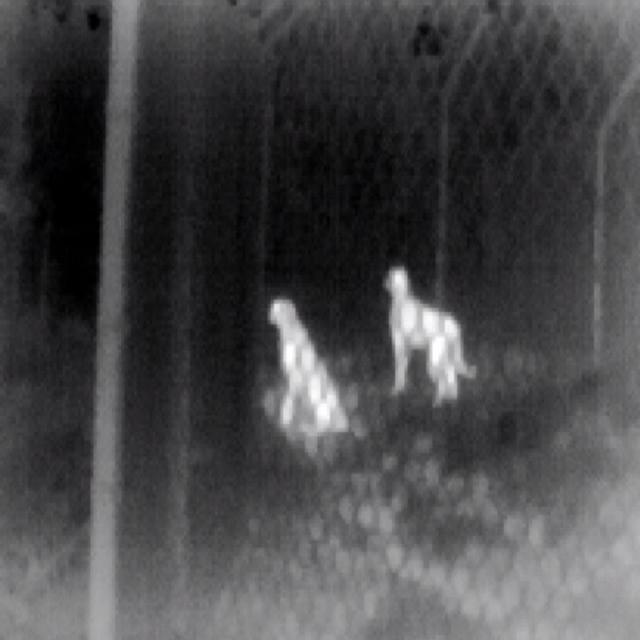cheetah: (383, 269, 474, 407), (270, 299, 341, 432)
